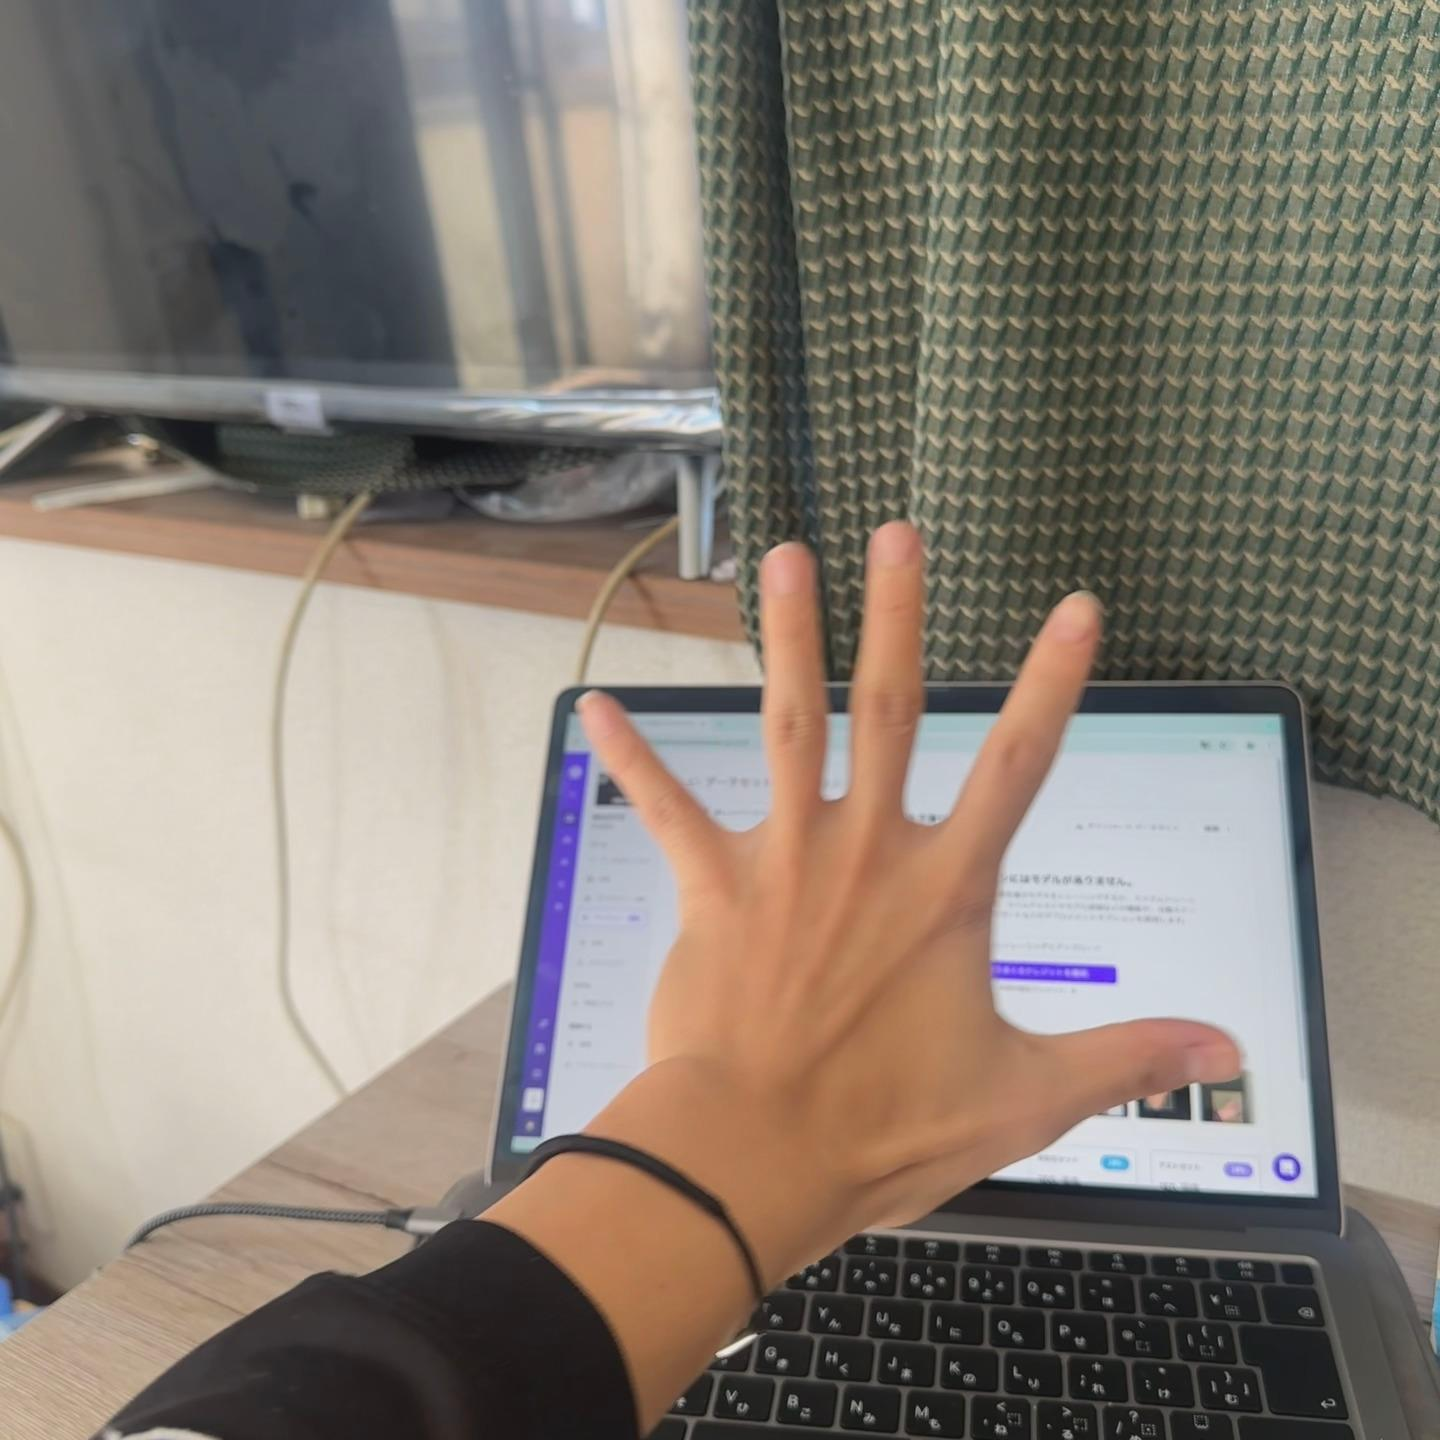without_gloves: (440, 410, 1298, 1317)
